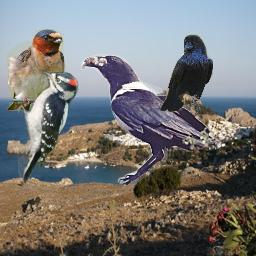Crow: (81, 54, 221, 185), (161, 34, 213, 114)
Swallow: (6, 29, 66, 111)
Woodpecker: (18, 68, 79, 186)
